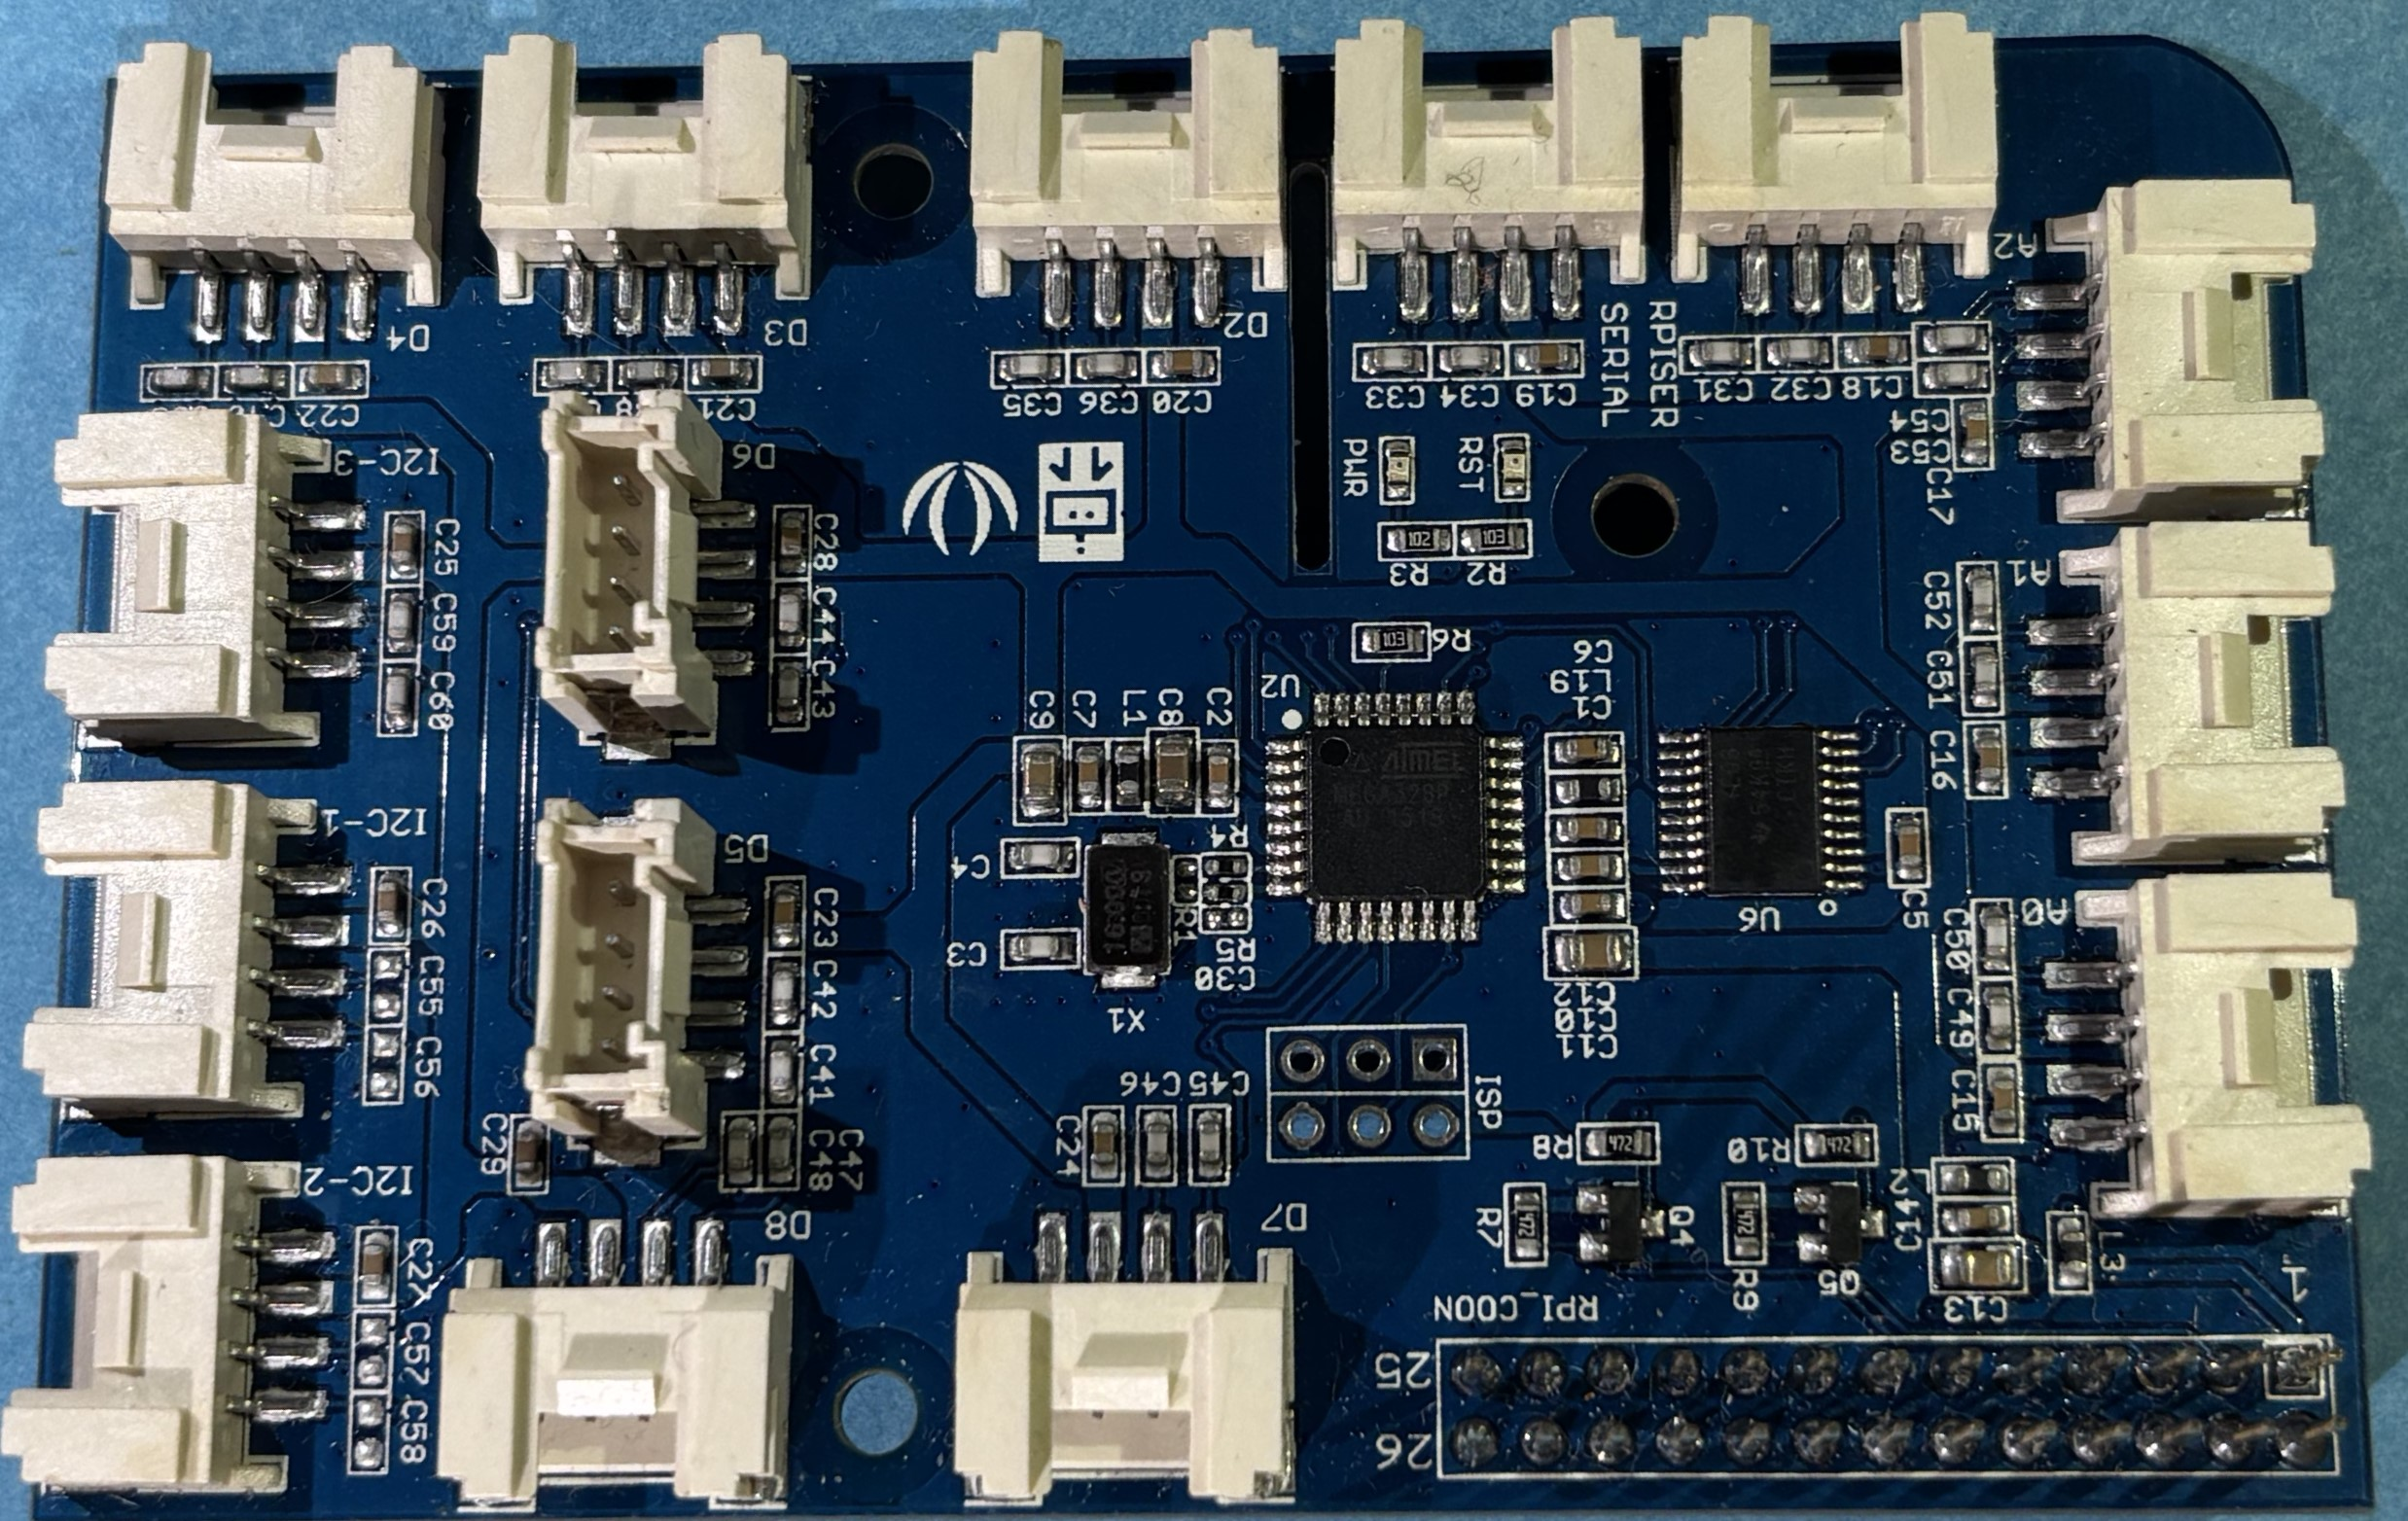Induktor: (1937, 1164, 2007, 1190), (2056, 1223, 2086, 1277), (1113, 745, 1141, 801), (1556, 780, 1614, 801)
